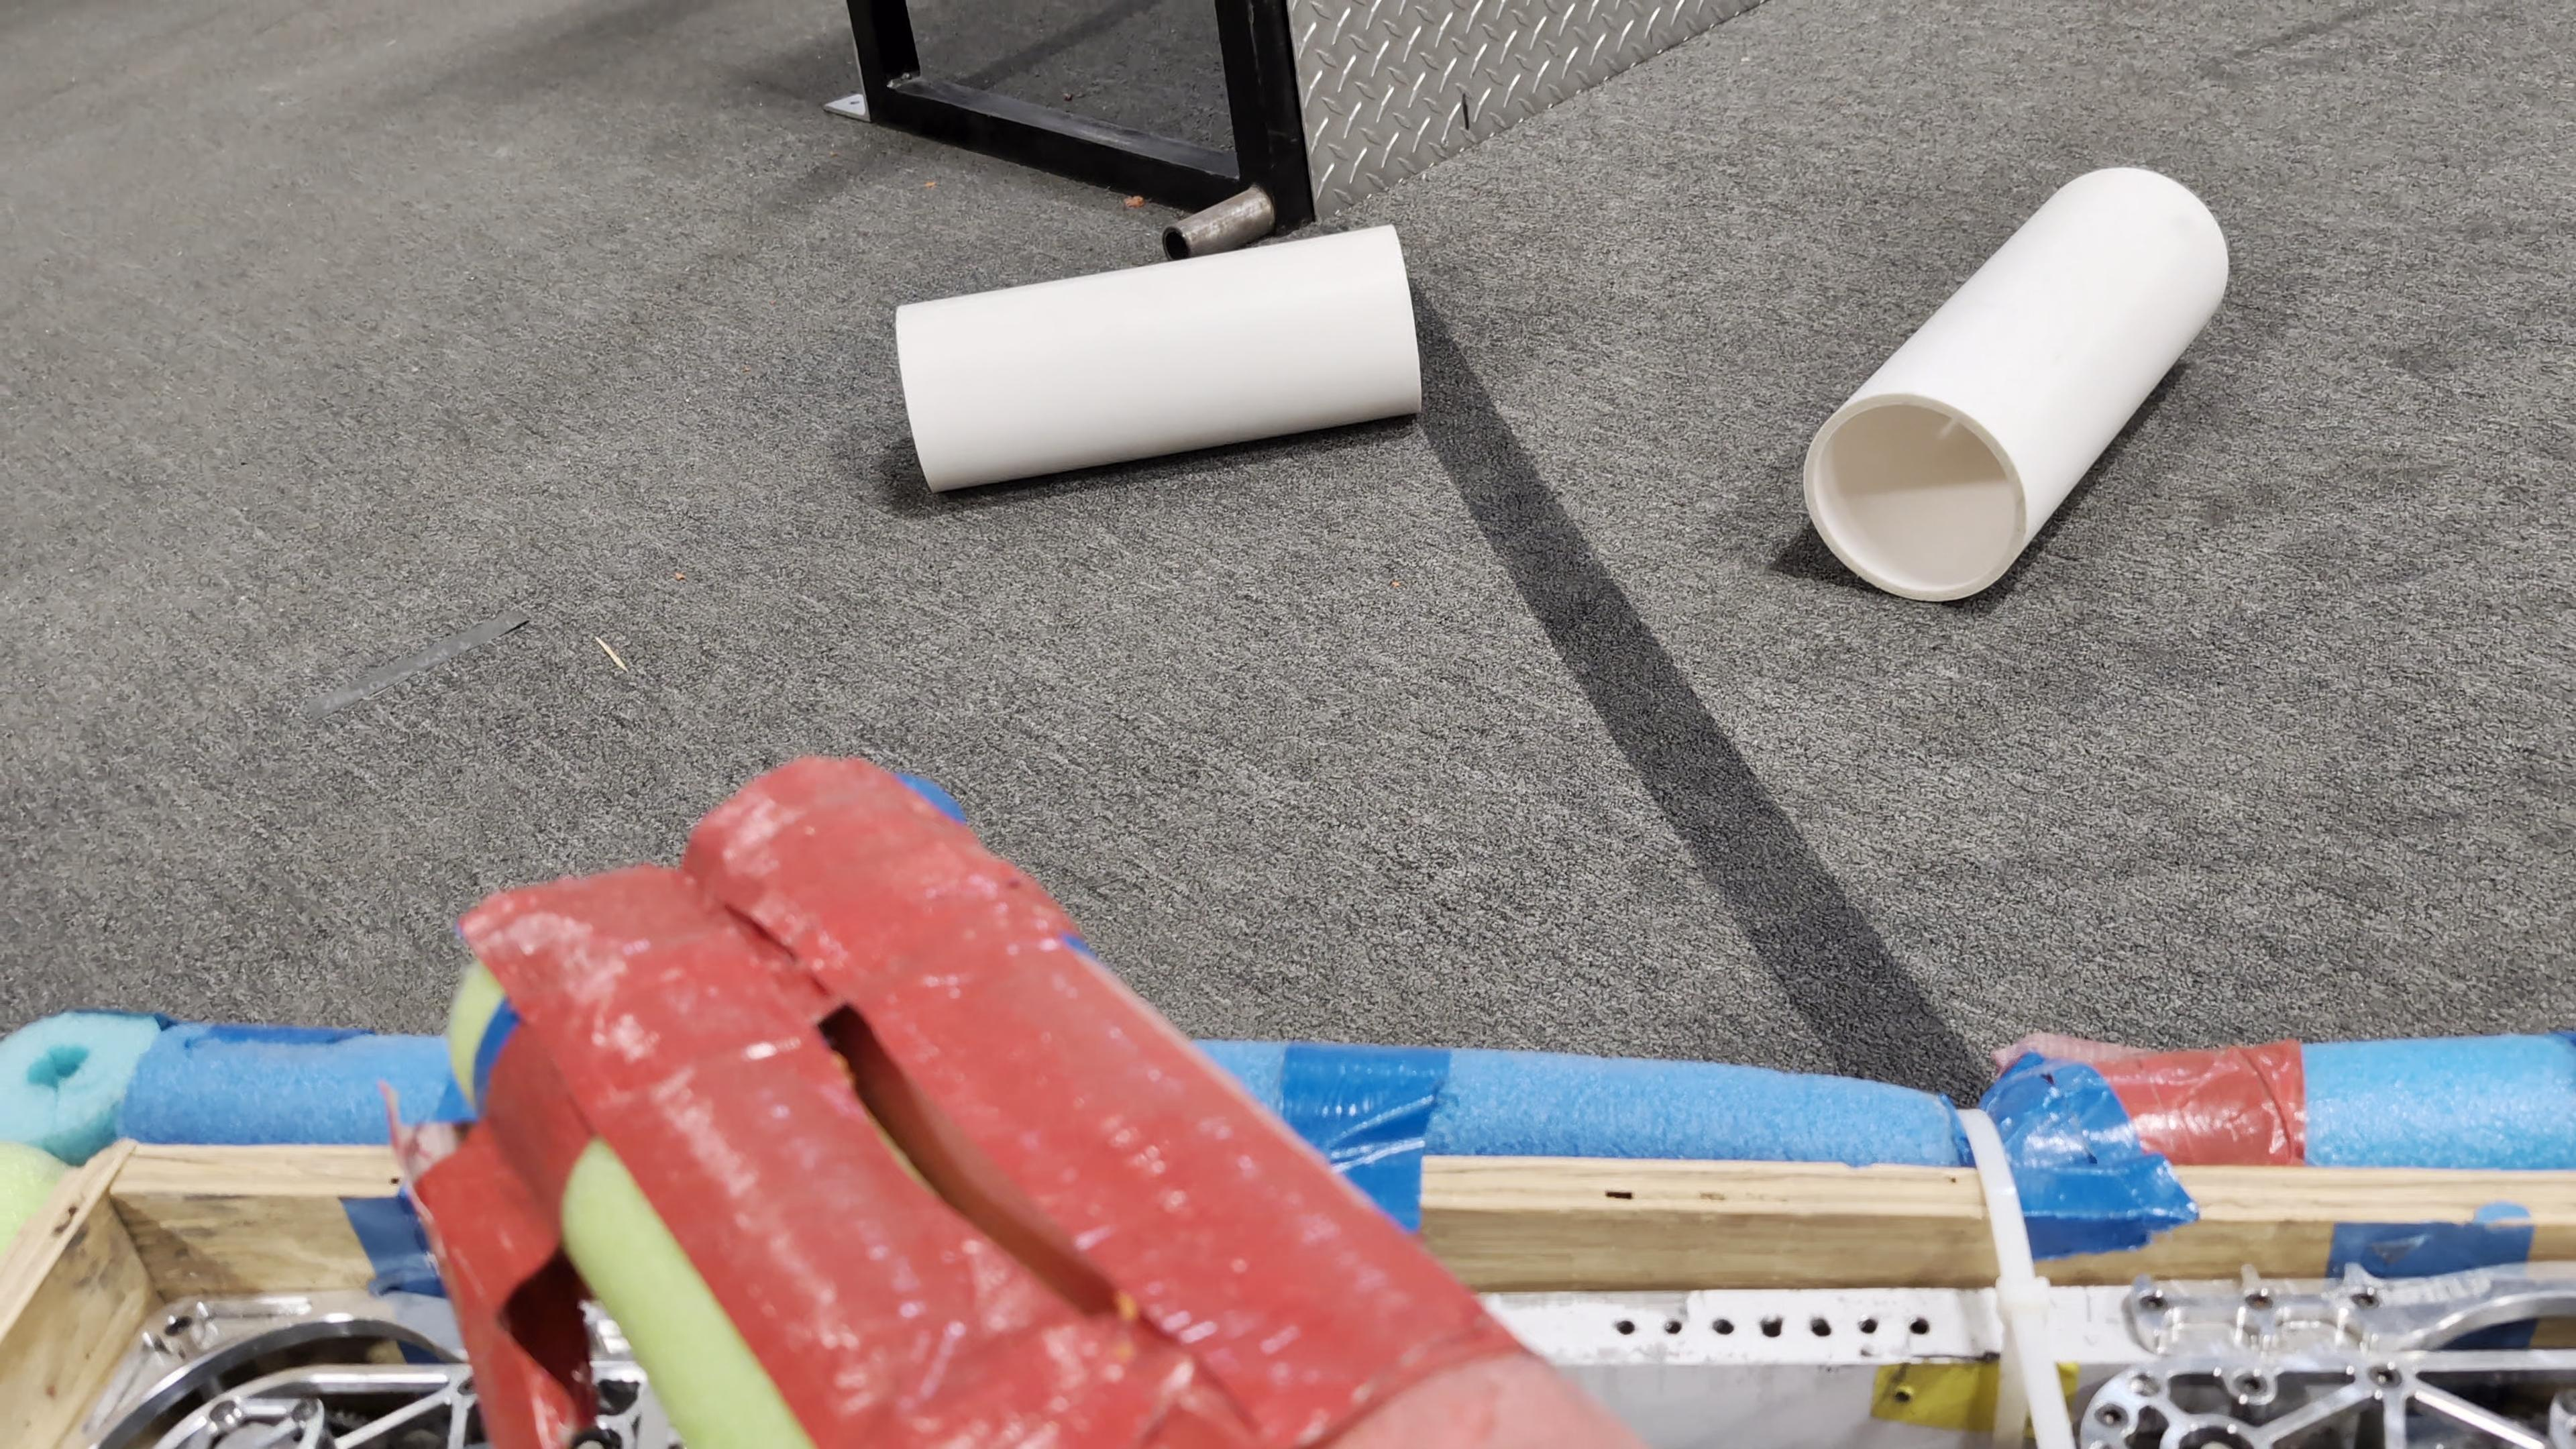coral: (1805, 166, 2231, 603), (895, 225, 1422, 494)
